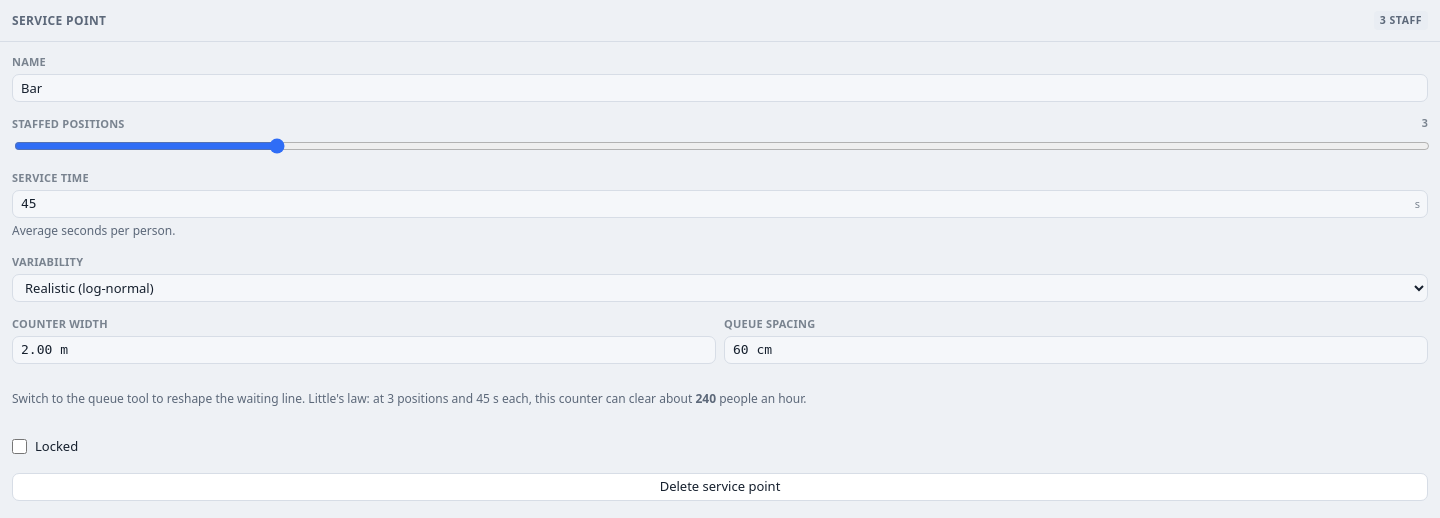
Test: the inspector with an area or a counter selected › turns staffing and service time into the hourly throughput a planner asks for
Expected: the text "Switch to the queue tool" shows "3 positions and 45 s each", [12,390,806,407]
Replace the text in the field labelled "Service time" with "90" at point(720, 204), box [12,190,1428,218]
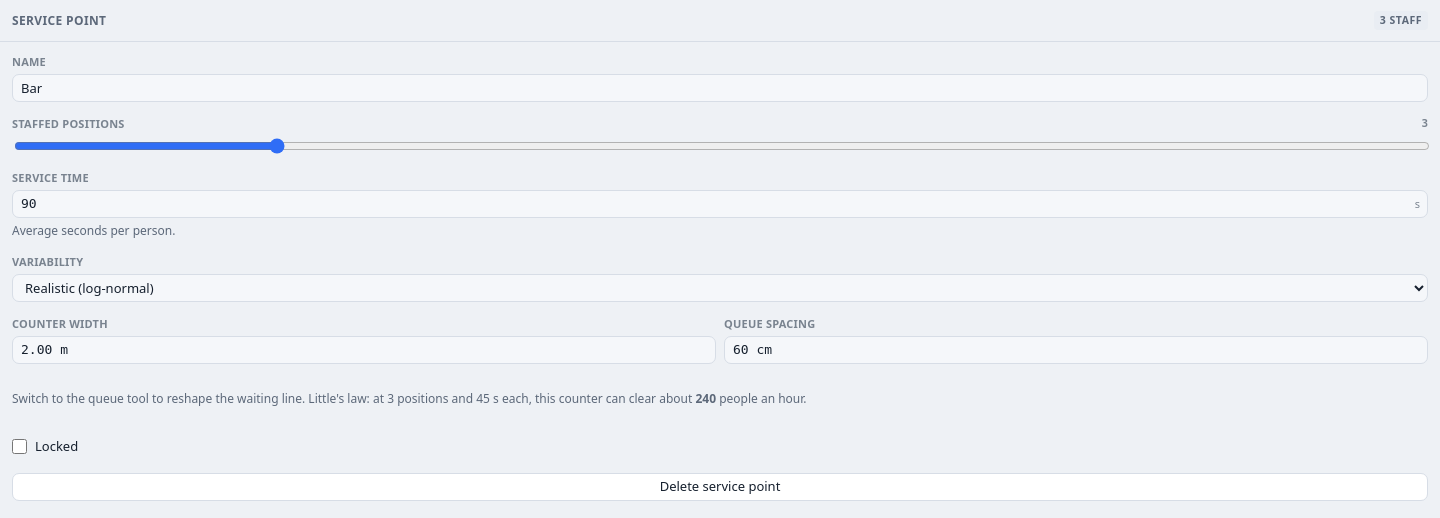
Leave the field labelled "Service time", box [12,190,1428,218]
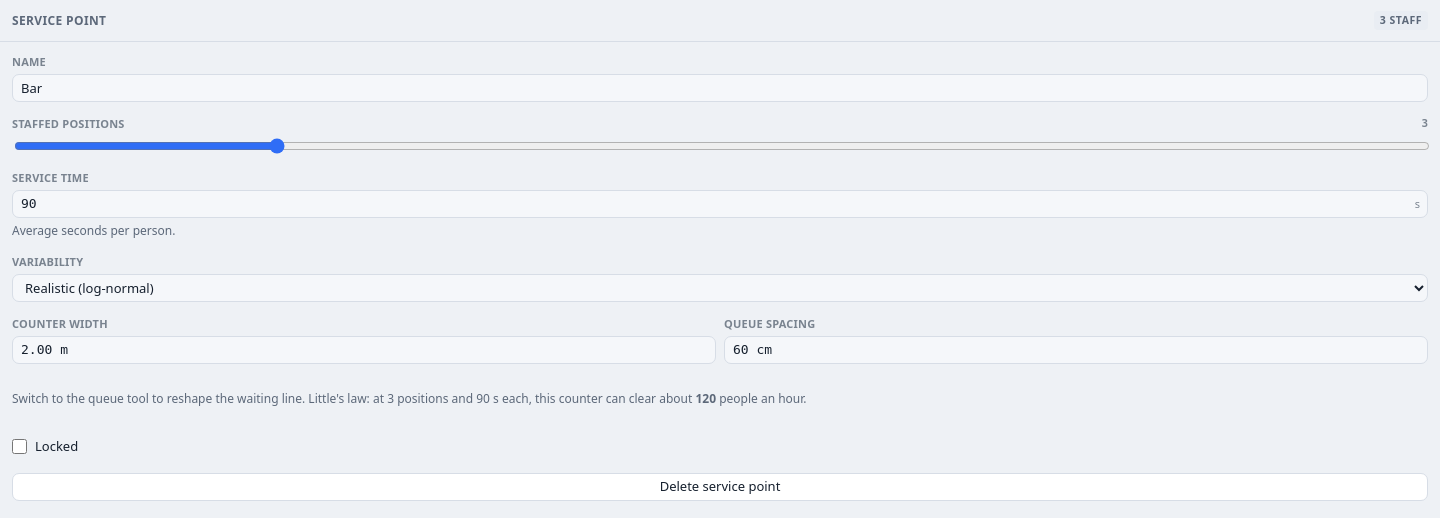
Expected: the text "Switch to the queue tool" shows "90 s each", [12,390,806,407]
